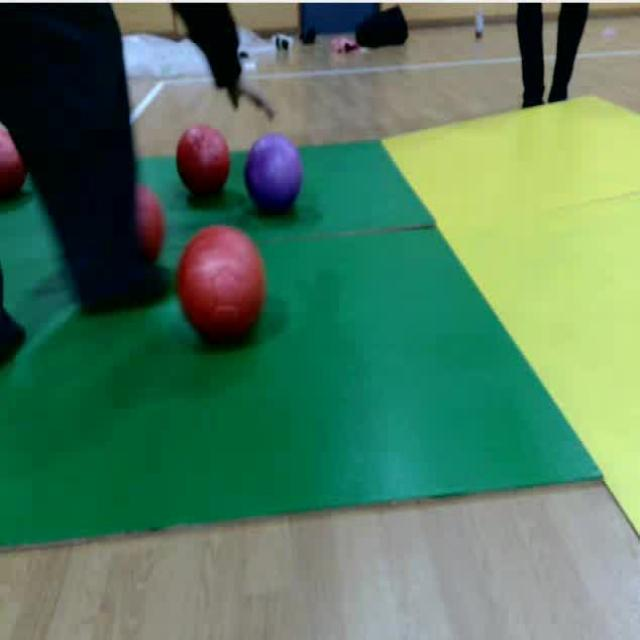purple_ball: (240, 133, 303, 220)
red_ball: (172, 228, 269, 350), (176, 122, 232, 203), (137, 183, 167, 263), (0, 133, 20, 206)
